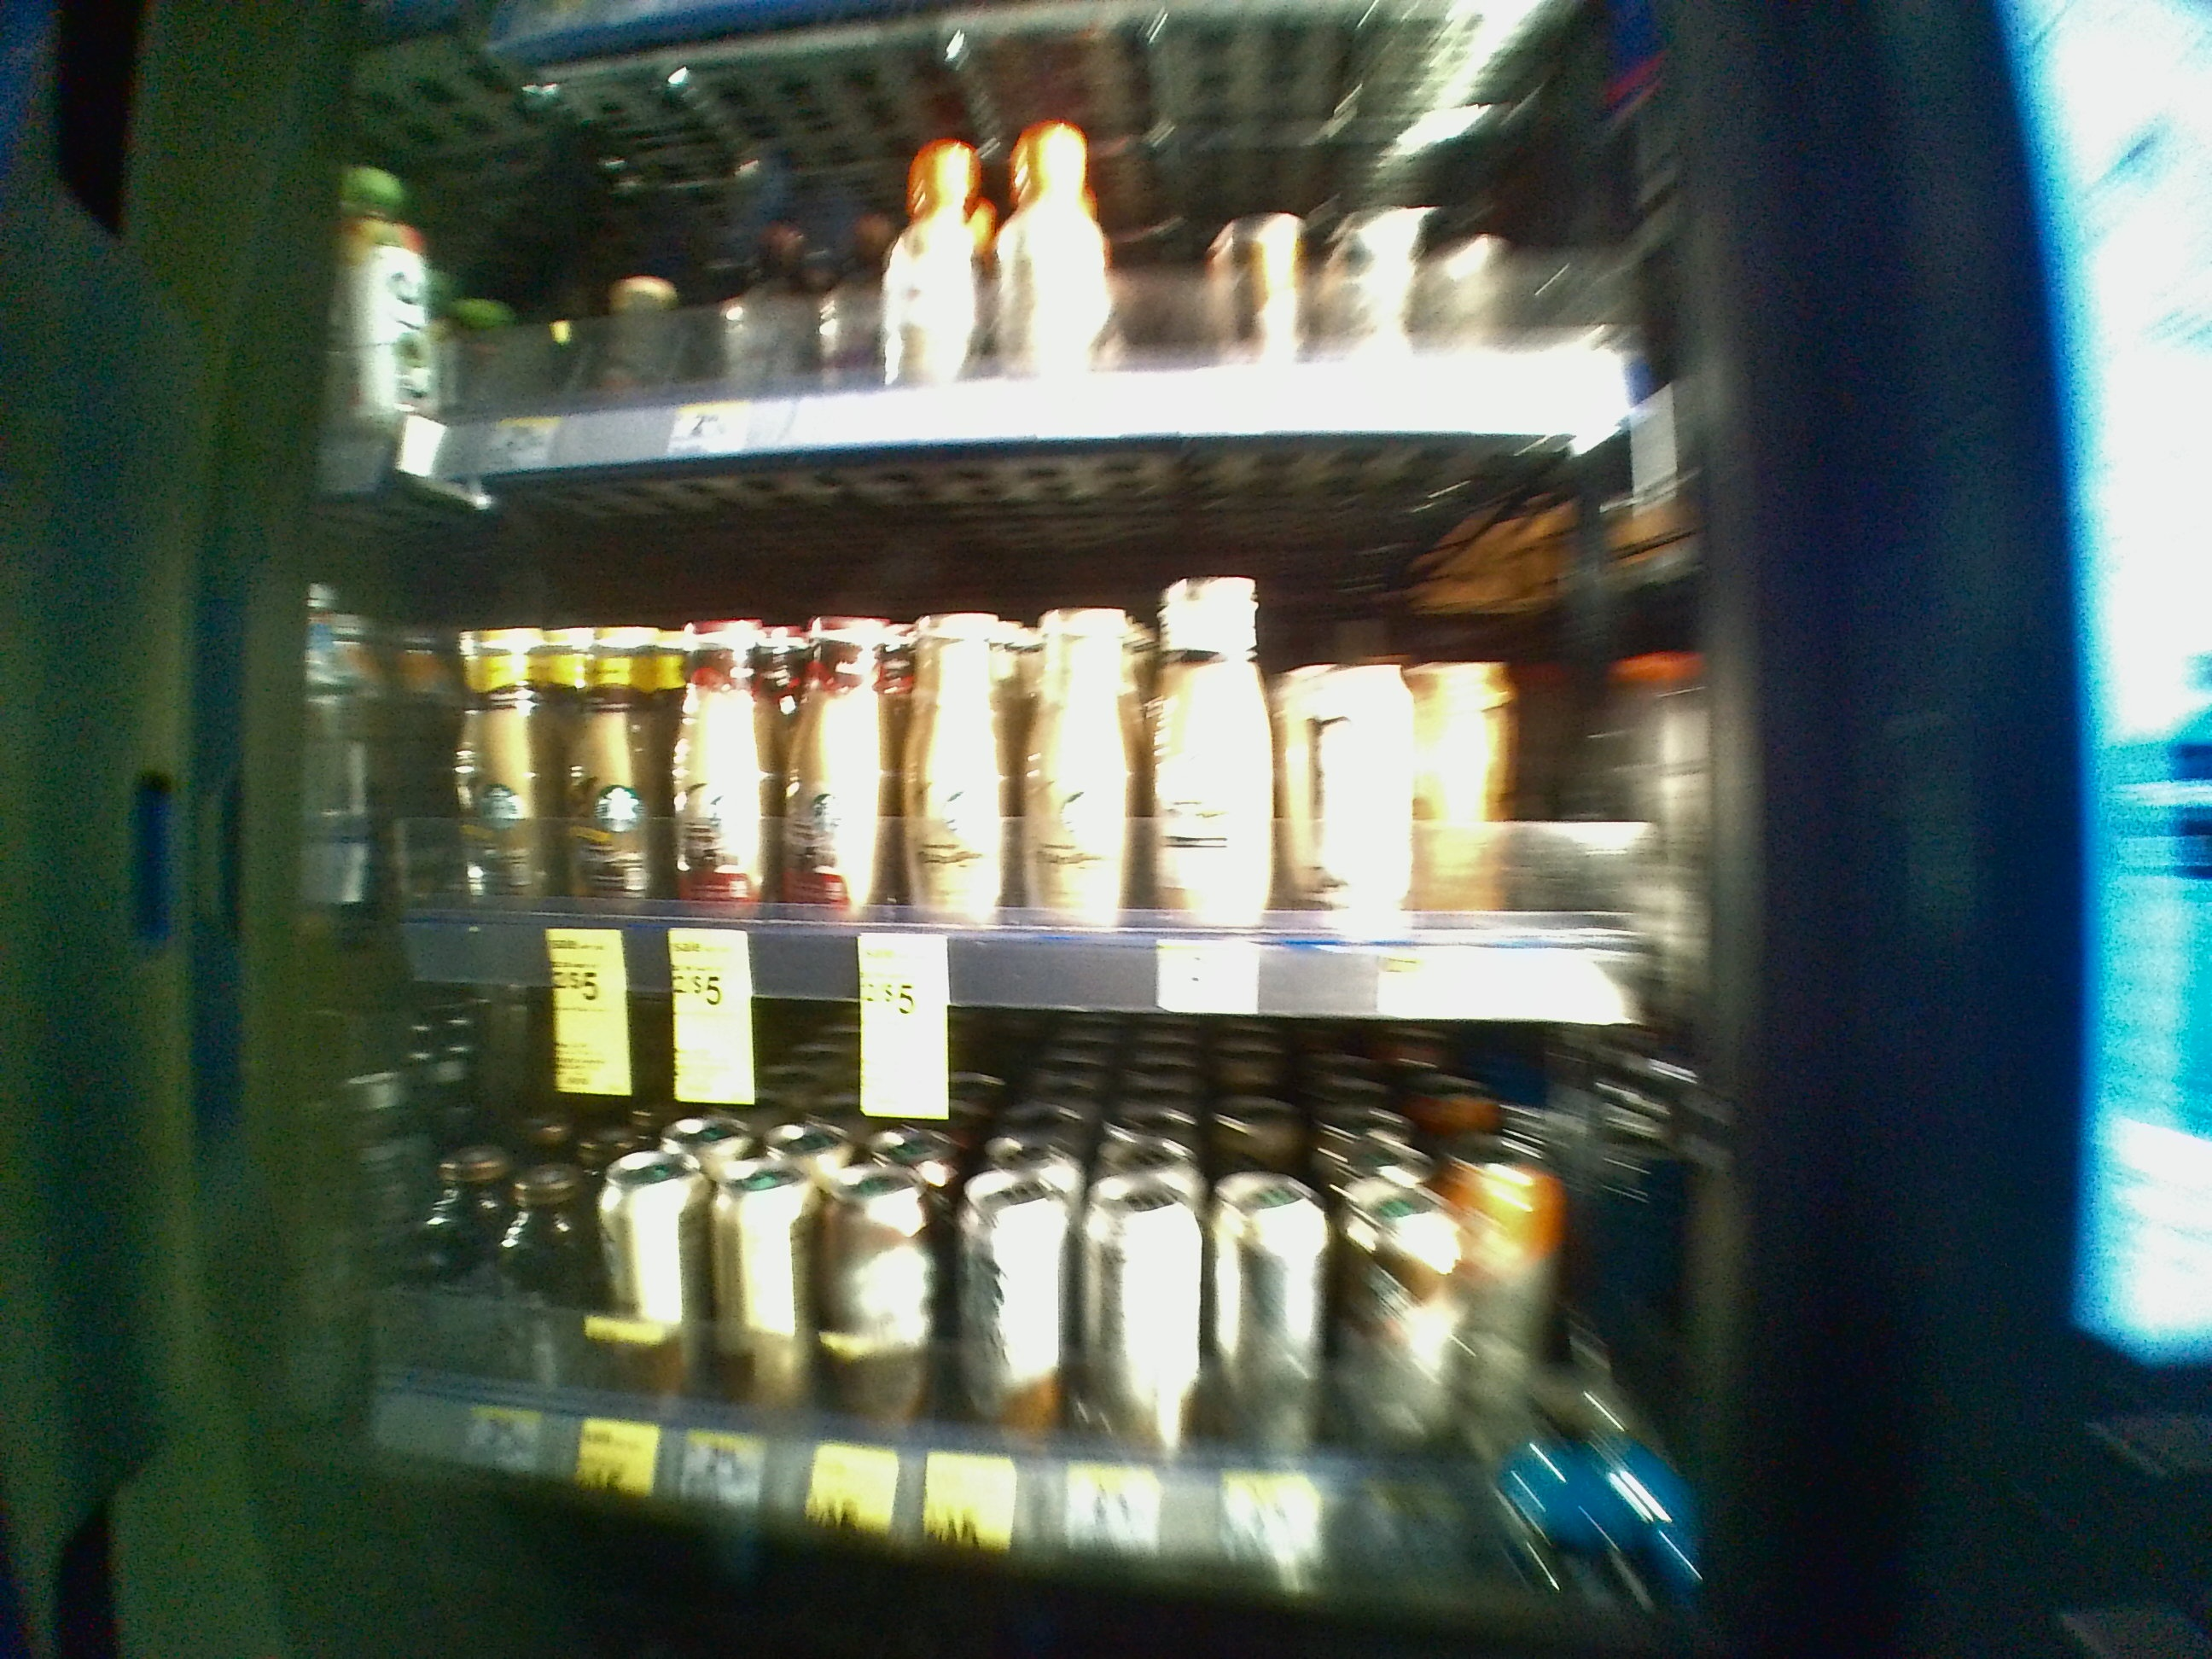shelf: (315, 444, 1750, 1023)
